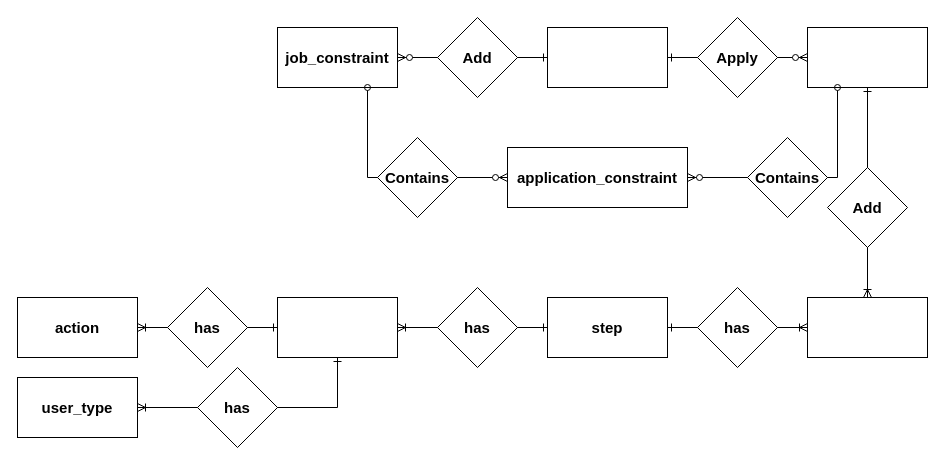
The diagram is 945 pixels wide and 465 high, and some of its shapes have lost their labels. Each missing label, with the centre of its shape:
action_step: (x=337, y=327)
application: (x=867, y=57)
application_step: (x=867, y=327)
job: (x=607, y=57)
